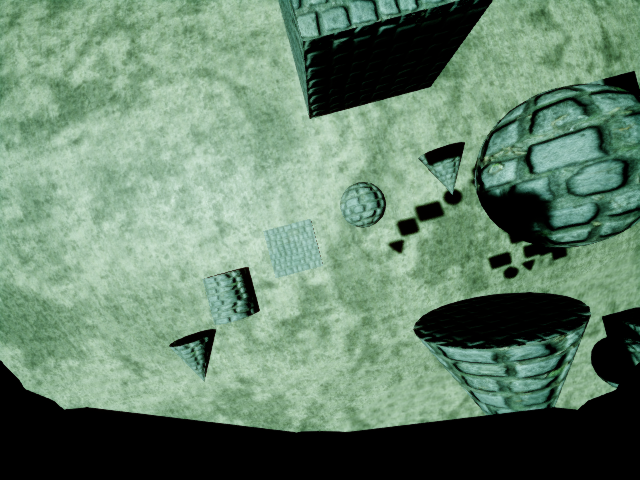box: (257, 217, 326, 277)
cone: (158, 325, 229, 383), (418, 145, 466, 199)
cylinder: (196, 266, 272, 325)
sphere: (466, 78, 640, 252), (333, 179, 396, 237)
